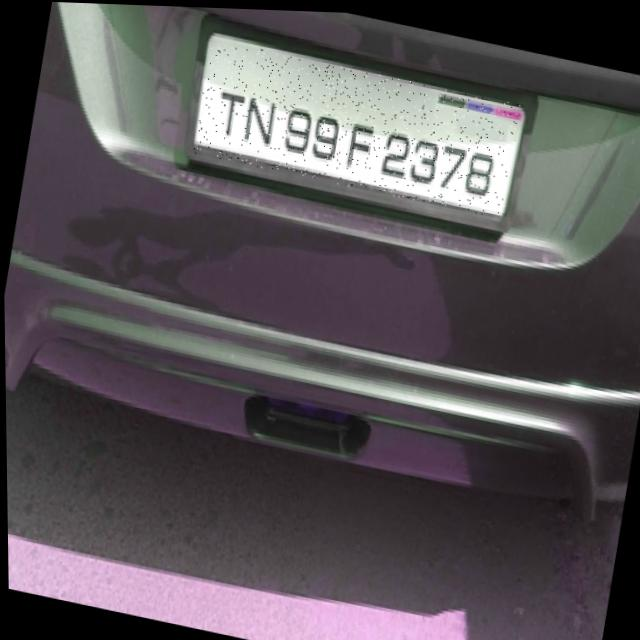license_plate: (190, 36, 522, 216)
